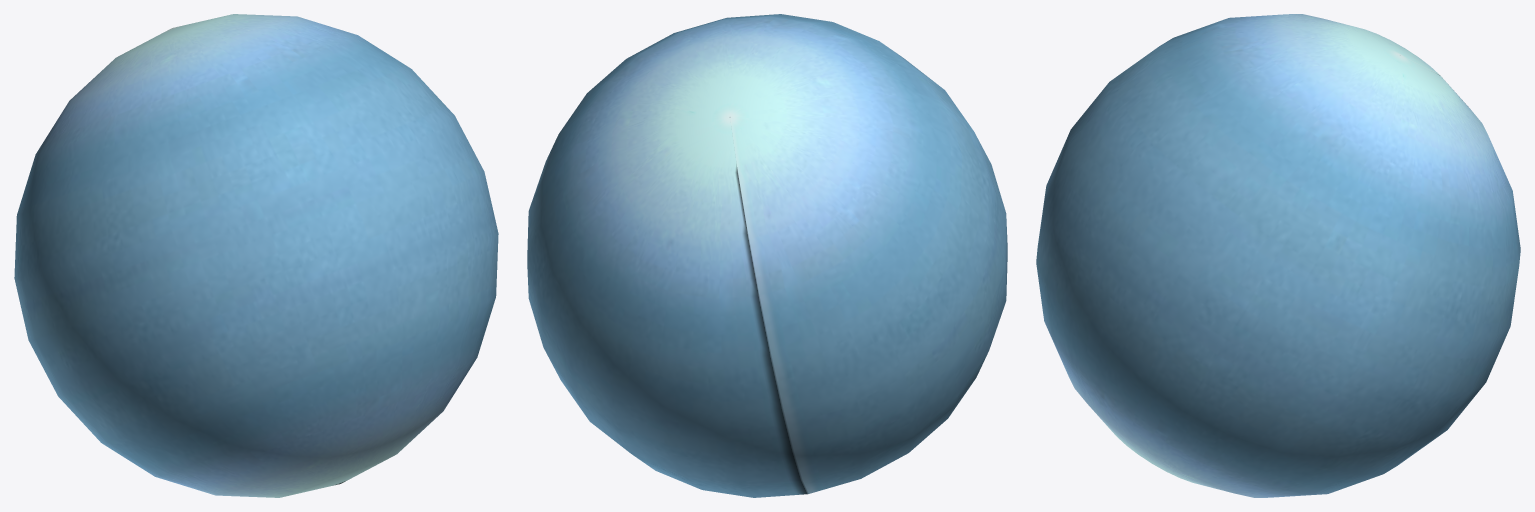
Rendered from uranus.fbx.
3 views of the same model, side by side, from view 1: azimuth 30°, elevation 25°; view 2: azimuth 150°, elevation 25°; view 3: azimuth 270°, elevation 25° (orthographic).
Parts seen in each view (by area): view 1: Sphere; view 2: Sphere; view 3: Sphere.
Part boxes in pixels (box(x1,y1,x2,y2)): Sphere: box(14, 14, 498, 497); Sphere: box(527, 14, 1007, 497); Sphere: box(1036, 14, 1520, 497).
Bounding box in the file's own units: 199 × 200 × 199.
1 material, 1 textured.
